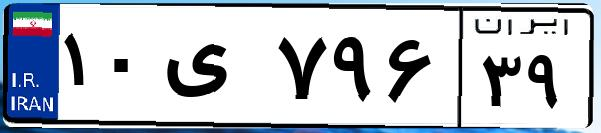0: (110, 28, 158, 98)
1: (57, 26, 110, 100)
3: (475, 38, 525, 113)
6: (385, 28, 445, 110)
7: (270, 28, 330, 110)
9: (330, 28, 385, 110), (525, 38, 570, 115)
ی: (158, 20, 270, 120)
